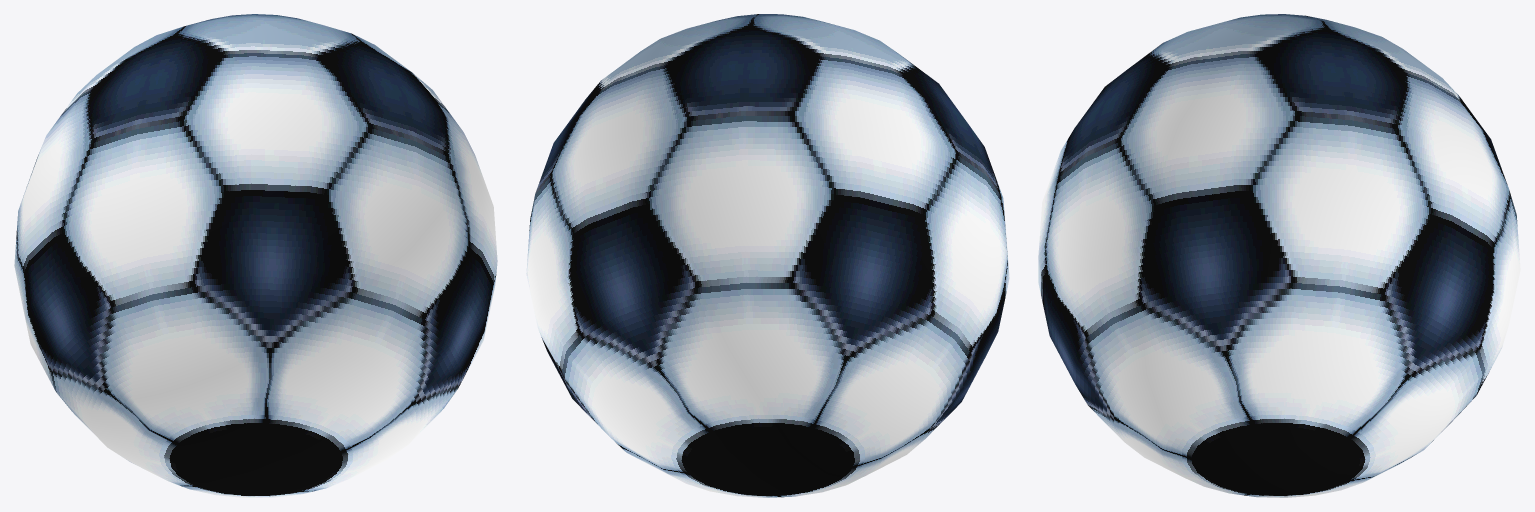
Rendered from ps2_save-icons_segasoccerslam.glb.
3 views of the same model, side by side, from view 1: azimuth 30°, elevation 25°; view 2: azimuth 150°, elevation 25°; view 3: azimuth 270°, elevation 25° (orthographic).
Parts seen in each view (by area): view 1: static.ico; view 2: static.ico; view 3: static.ico.
Part boxes in pixels (x1=…): static.ico: x1=14, y1=14, x2=497, y2=497; static.ico: x1=526, y1=14, x2=1009, y2=497; static.ico: x1=1038, y1=14, x2=1520, y2=497.
Size of the model in its own units: 4.23 by 4.25 by 4.22.
1 material, 1 textured.
